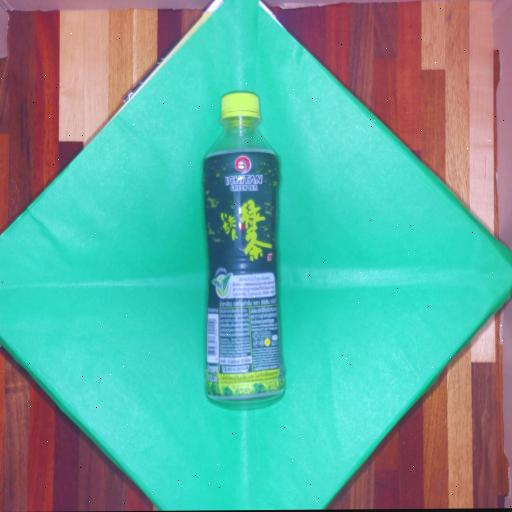bottle: (204, 93, 284, 400)
